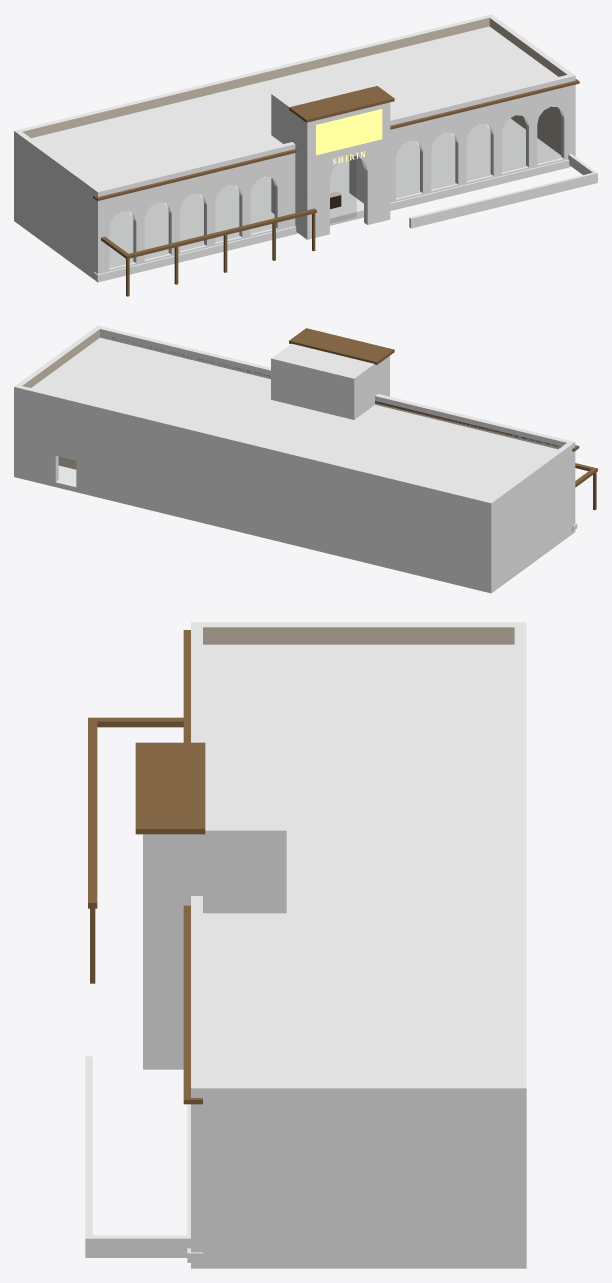
File: shirin_restaurant_lod2.glb
3 renders of one model, top to bottom at view 1: azimuth 30°, elevation 25°; view 2: azimuth 150°, elevation 25°; view 3: azimuth 270°, elevation 25°, orthographic. The views are drawn at different scales.
Parts seen in each view (by area): view 1: P08_LOD2_BUILDING_EXTERIOR_Stone, P08_LOD2_BUILDING_EXTERIOR_Roof, P08_LOD2_BUILDING_INTERIOR_GroundSlab, P08_LOD2_GLASS_SYSTEM_ArchesGlass, P08_LOD2_FACADE_DETAILS_Bronze, P08_LOD2_FACADE_DETAILS_Terrace, P08_LOD2_GLASS_SYSTEM_PortalGlass; view 2: P08_LOD2_BUILDING_EXTERIOR_Stone, P08_LOD2_BUILDING_EXTERIOR_Roof, P08_LOD2_BUILDING_INTERIOR_GroundSlab, P08_LOD2_FACADE_DETAILS_Bronze, P08_LOD2_FACADE_DETAILS_Terrace; view 3: P08_LOD2_BUILDING_EXTERIOR_Roof, P08_LOD2_BUILDING_EXTERIOR_Stone, P08_LOD2_FACADE_DETAILS_Bronze, P08_LOD2_FACADE_DETAILS_Terrace, P08_LOD2_BUILDING_INTERIOR_GroundSlab.
Boxes of the visible parts, bbox=[...] form: P08_LOD2_BUILDING_EXTERIOR_Stone: bbox=[14, 14, 575, 279]; P08_LOD2_BUILDING_EXTERIOR_Roof: bbox=[14, 26, 575, 206]; P08_LOD2_BUILDING_INTERIOR_GroundSlab: bbox=[14, 118, 571, 282]; P08_LOD2_GLASS_SYSTEM_ArchesGlass: bbox=[110, 107, 562, 267]; P08_LOD2_FACADE_DETAILS_Bronze: bbox=[93, 79, 579, 200]; P08_LOD2_FACADE_DETAILS_Terrace: bbox=[101, 154, 597, 296]; P08_LOD2_GLASS_SYSTEM_PortalGlass: bbox=[330, 156, 355, 222]; P08_LOD2_BUILDING_EXTERIOR_Stone: bbox=[14, 325, 577, 590]; P08_LOD2_BUILDING_EXTERIOR_Roof: bbox=[14, 337, 575, 514]; P08_LOD2_BUILDING_INTERIOR_GroundSlab: bbox=[14, 465, 575, 593]; P08_LOD2_FACADE_DETAILS_Bronze: bbox=[112, 328, 579, 451]; P08_LOD2_FACADE_DETAILS_Terrace: bbox=[575, 463, 597, 510]; P08_LOD2_BUILDING_EXTERIOR_Roof: bbox=[191, 644, 526, 1116]; P08_LOD2_BUILDING_EXTERIOR_Stone: bbox=[143, 622, 526, 1262]; P08_LOD2_FACADE_DETAILS_Bronze: bbox=[135, 630, 205, 1104]; P08_LOD2_FACADE_DETAILS_Terrace: bbox=[85, 717, 190, 1257]; P08_LOD2_BUILDING_INTERIOR_GroundSlab: bbox=[191, 1259, 526, 1268].
Bounding box in the file's own units: 46.4 × 11.5 × 18.4.
